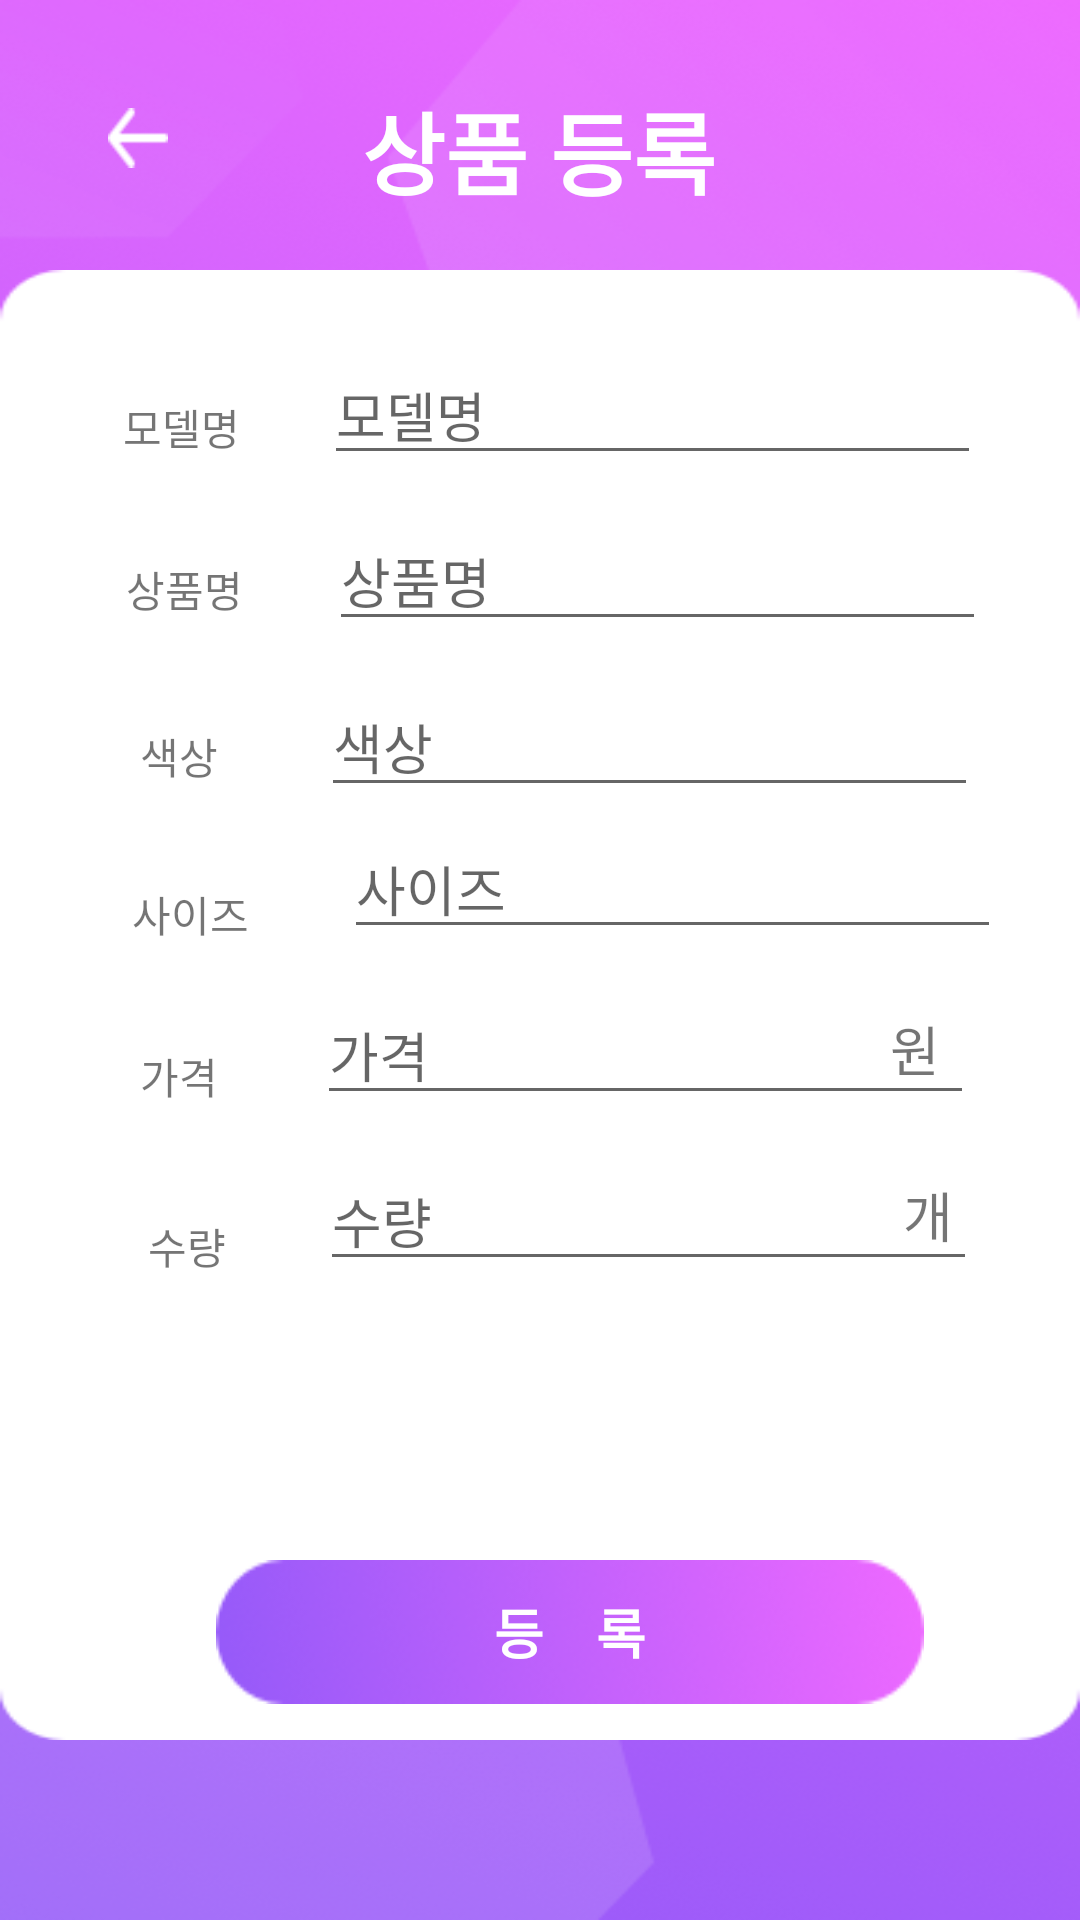

Named icons in this screenshot (1080 x 1920) and their bounding boxes, (x1, y1, x2, y2):
back: (108, 108, 168, 168)
